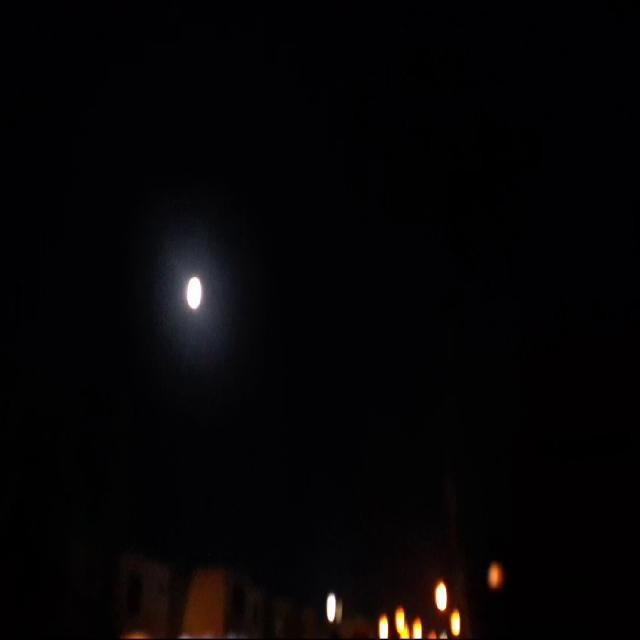moon: (183, 275, 203, 313)
